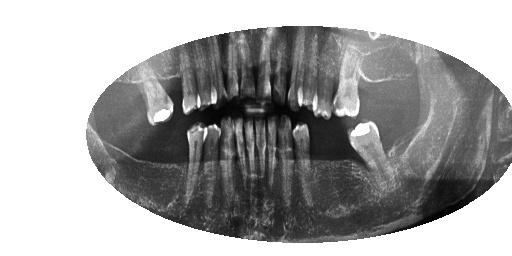i10healthy: (232, 113, 248, 193)
i11decay: (219, 116, 235, 197)
i12decay: (204, 124, 222, 192)
i13healthy: (185, 122, 204, 200)
i14loss: (166, 128, 185, 190)
i15loss: (146, 129, 166, 186)
i16loss: (122, 130, 145, 177)
i1loss: (385, 119, 418, 161)
i2healthy: (348, 119, 393, 188)
i3loss: (335, 125, 354, 195)
i4loss: (315, 124, 335, 195)
i5healthy: (293, 118, 314, 209)
i6decay: (279, 115, 292, 207)
i7decay: (268, 115, 279, 189)
i8decay: (255, 119, 267, 176)
i9healthy: (244, 116, 256, 186)
u10decay: (226, 33, 240, 99)
u11decay: (209, 37, 228, 109)
u12healthy: (194, 41, 218, 109)
u13healthy: (178, 47, 200, 115)
u14loss: (170, 61, 184, 115)
u15healthy: (136, 71, 175, 126)
u16loss: (118, 79, 142, 125)
u1loss: (396, 67, 419, 115)
u2loss: (366, 67, 395, 118)
u3chipped: (333, 48, 363, 117)
u4decay: (314, 37, 339, 118)
u5decay: (297, 36, 320, 110)
u6decay: (287, 27, 308, 111)
u7decay: (271, 27, 287, 113)
u8decay: (256, 25, 271, 102)
u9decay: (238, 32, 256, 101)
